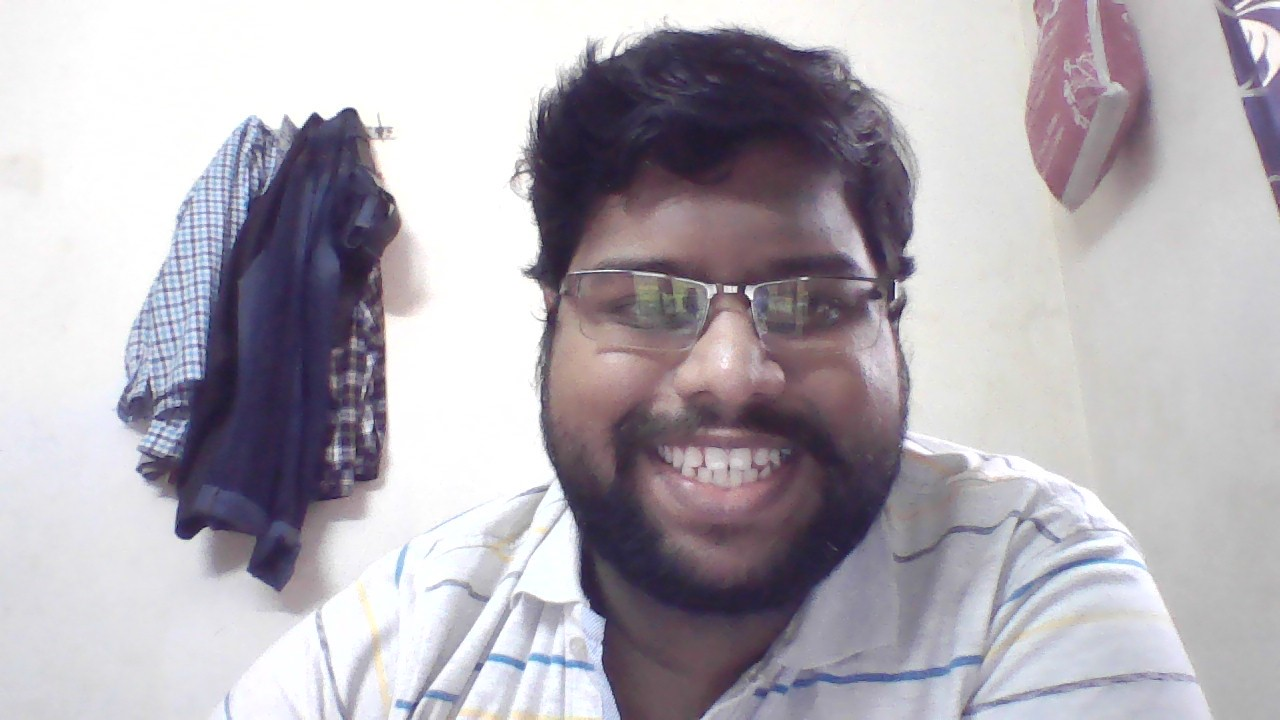NoMask: (529, 335, 921, 556)
